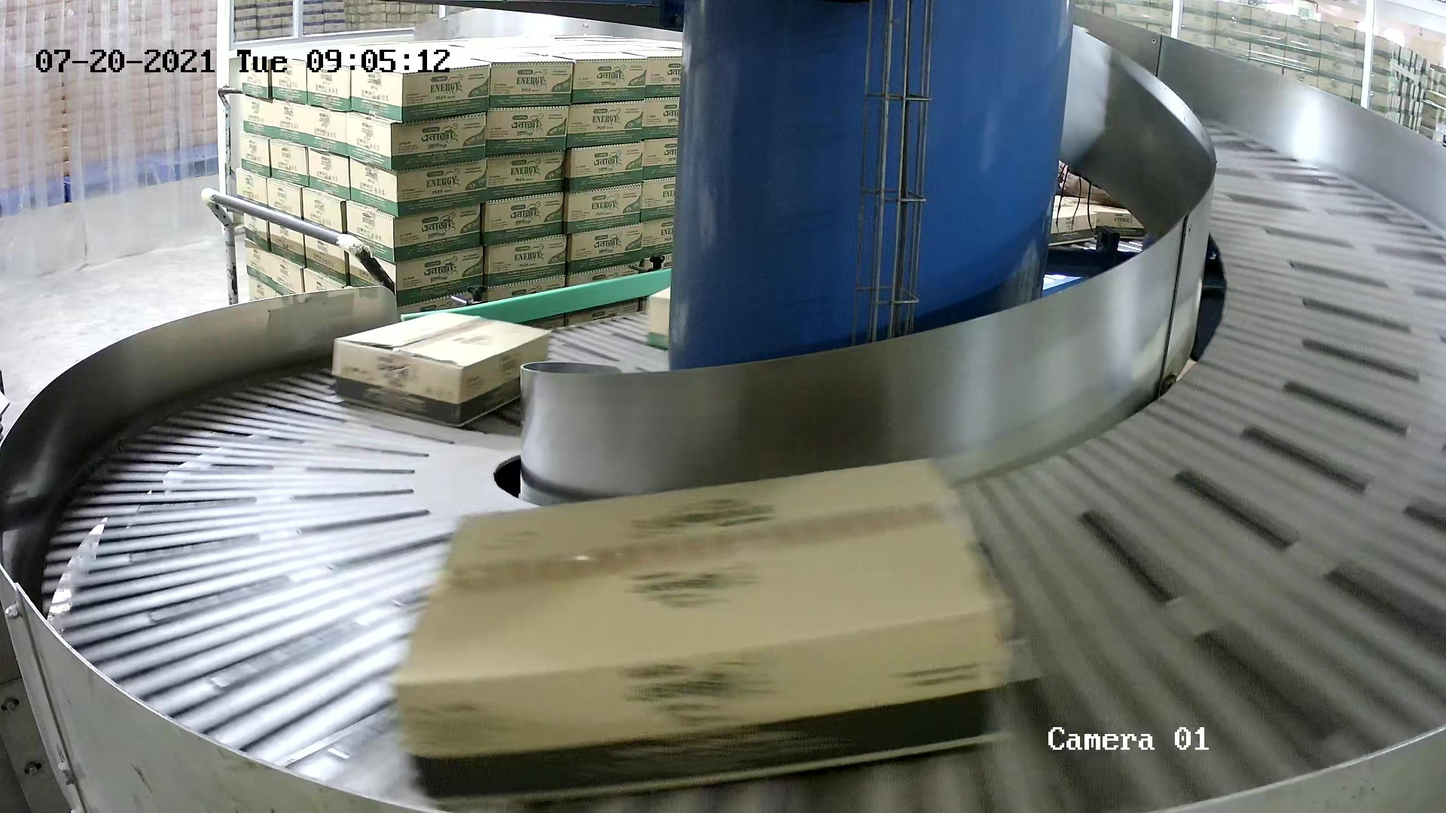Box: (391, 455, 1015, 809), (331, 310, 552, 428), (645, 286, 671, 349)
